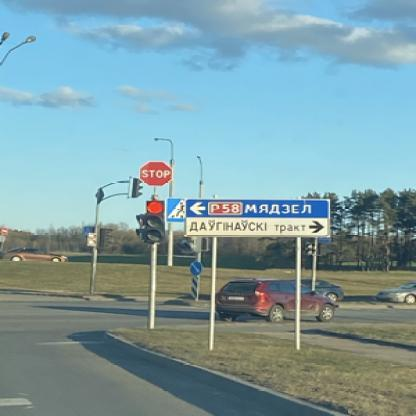Red Light: (144, 198, 166, 246)
Stop: (138, 162, 174, 186)
